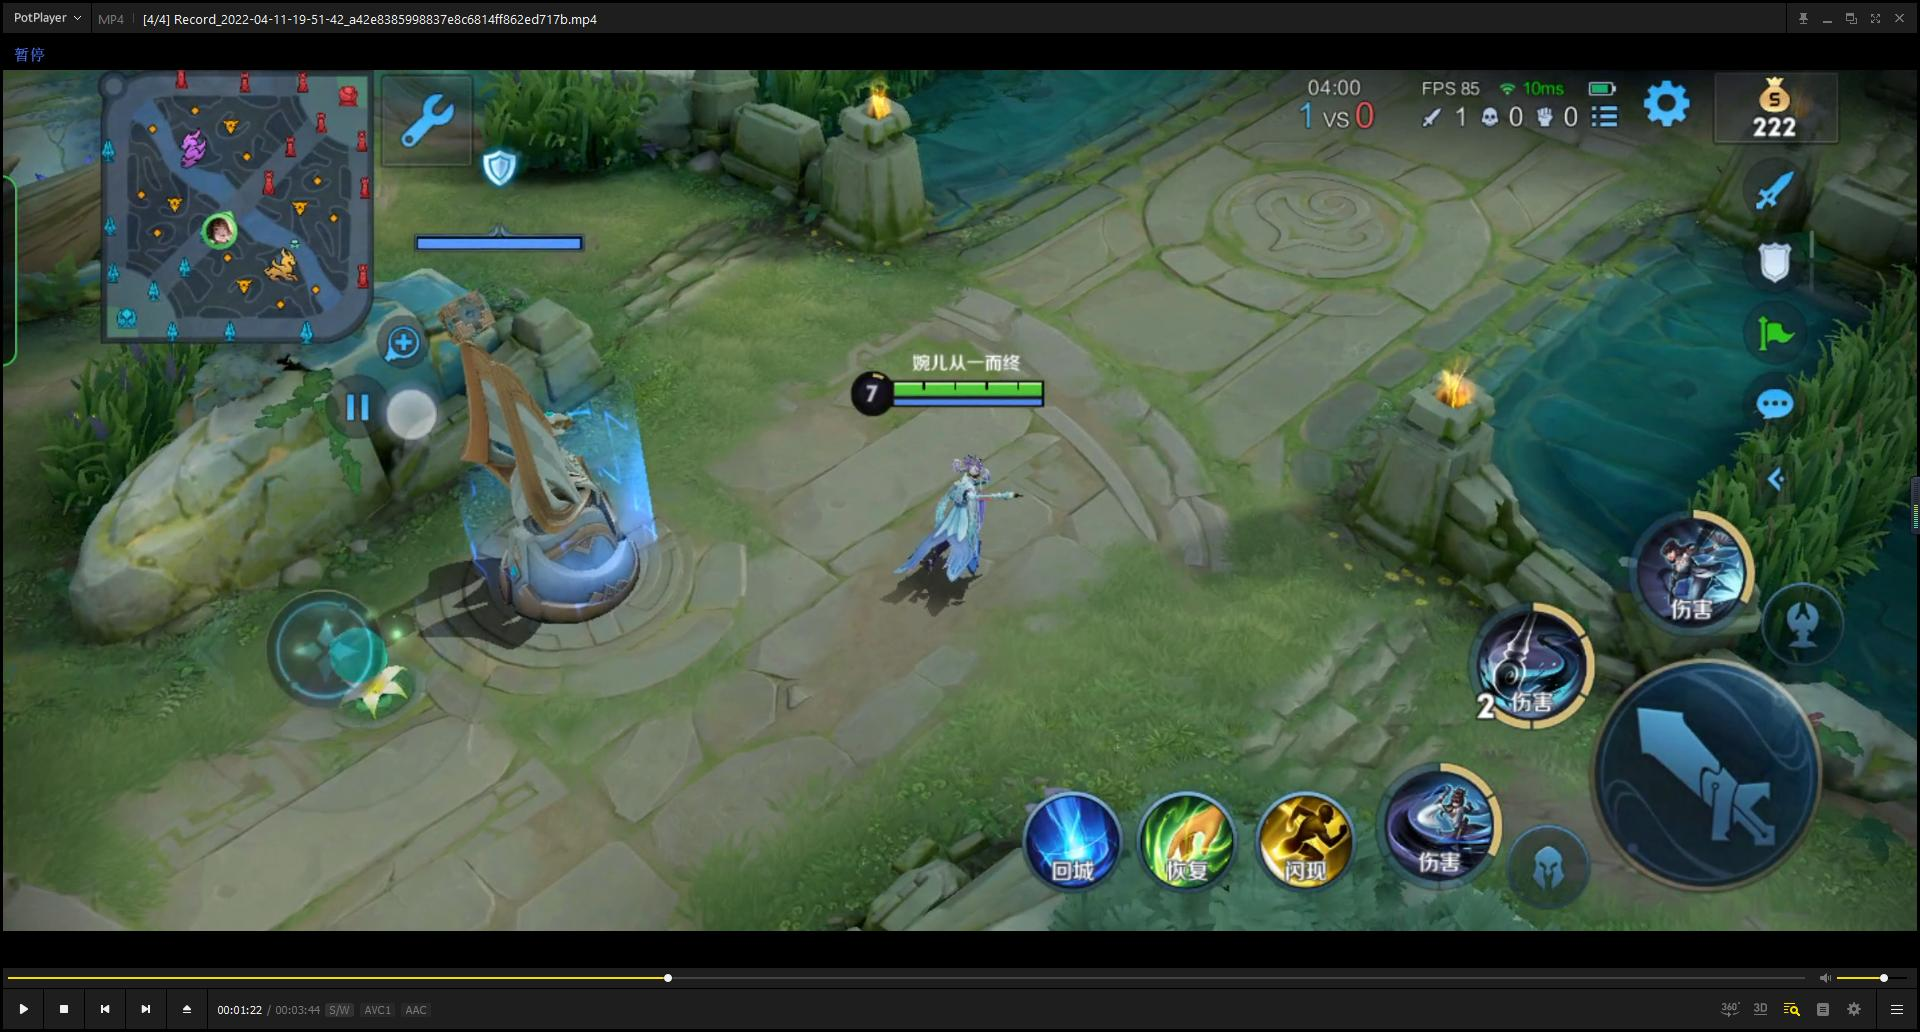Hero: (851, 438, 1053, 618)
Tower: (394, 222, 705, 646)
